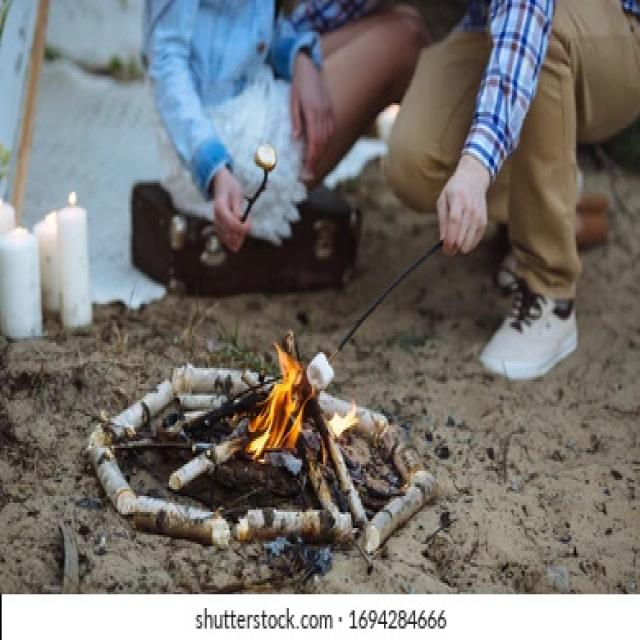fire: (244, 343, 312, 463), (325, 399, 358, 437)
